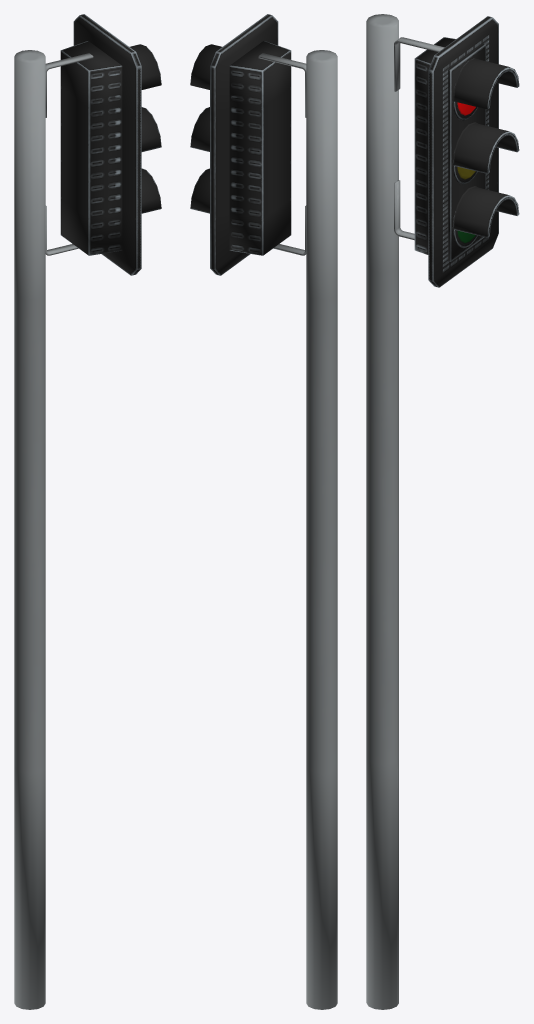
Rendered from traffic_light.fbx.
3 views of the same model, side by side, from view 1: azimuth 30°, elevation 25°; view 2: azimuth 150°, elevation 25°; view 3: azimuth 330°, elevation 25° (orthographic). The views are drawn at different scales.
Parts seen in each view (by area): view 1: traffic_light; view 2: traffic_light; view 3: traffic_light.
Part boxes in pixels (x1=…): traffic_light: x1=14, y1=14, x2=161, y2=1009; traffic_light: x1=190, y1=14, x2=337, y2=1009; traffic_light: x1=366, y1=14, x2=519, y2=1009.
Size of the model in its own units: 44.3 by 309 by 37.2.
1 material, 1 textured.
